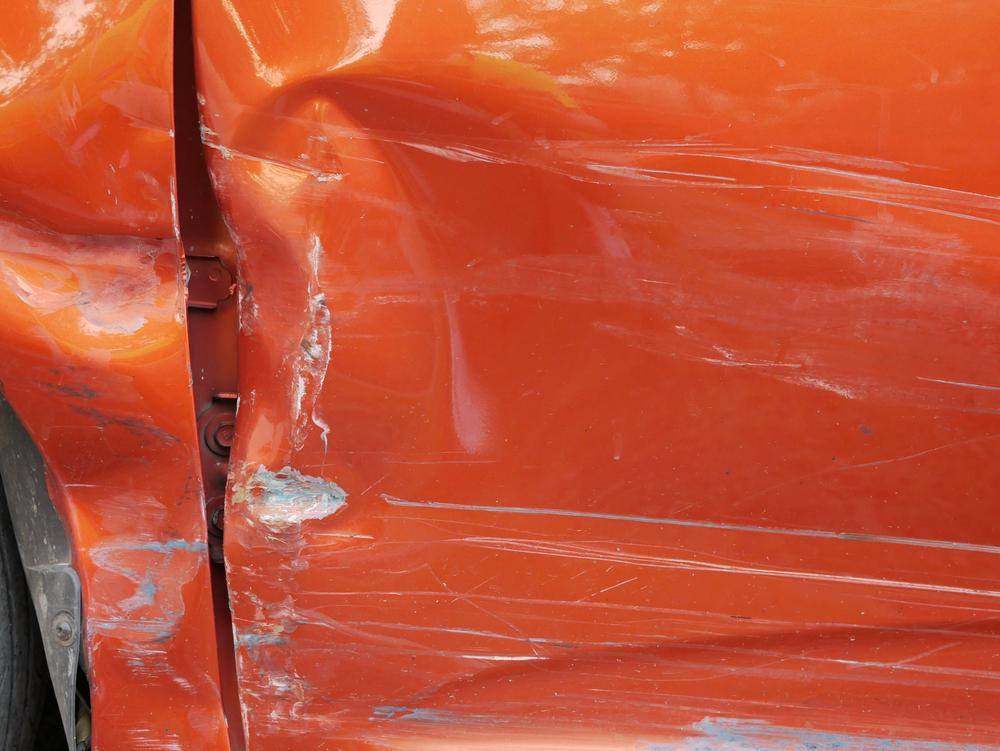dent: (224, 61, 608, 530), (0, 91, 191, 367), (41, 422, 194, 638)
scratch: (228, 488, 1000, 751), (567, 139, 1000, 431), (92, 636, 227, 751)
